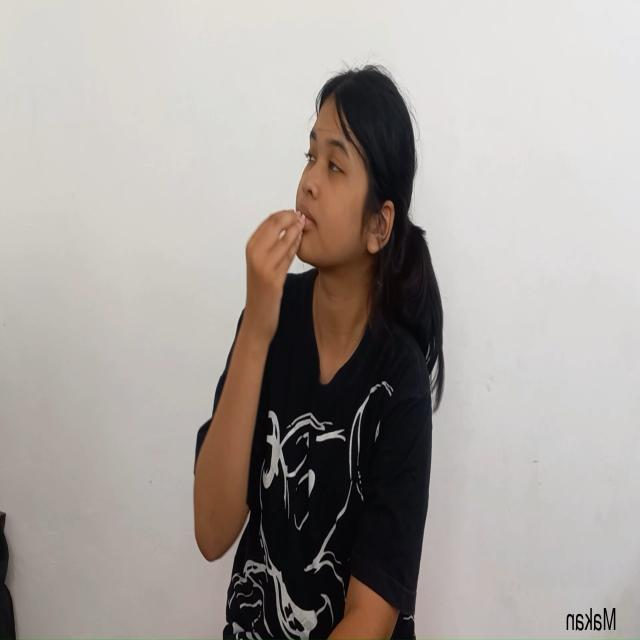Makan -BISINDO-: (244, 73, 396, 348)
